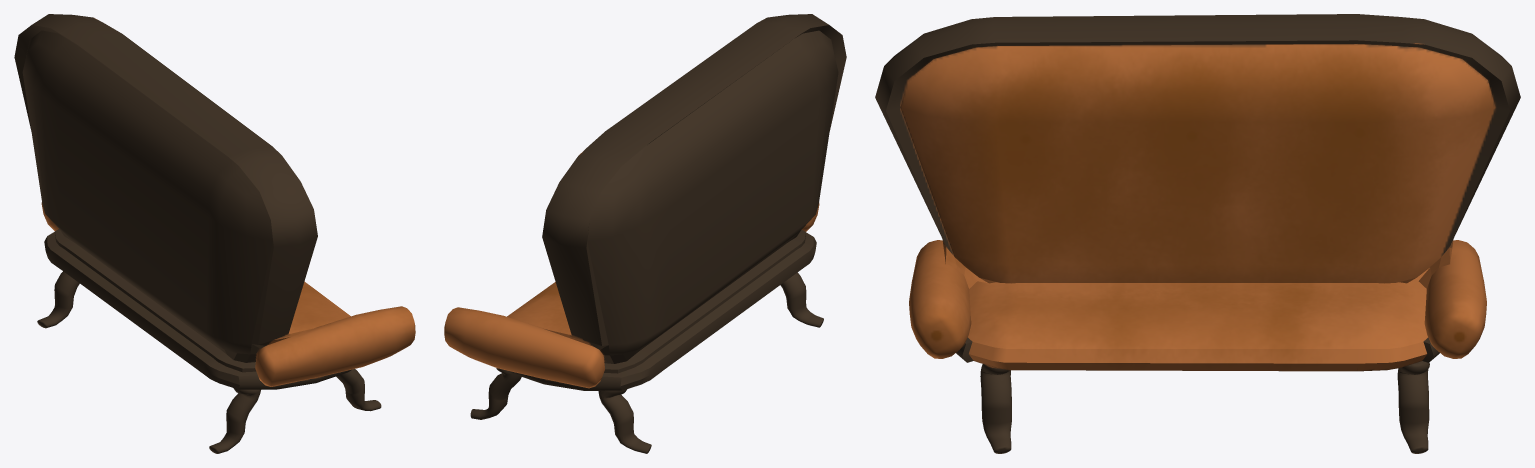
Rendered from sofa.fbx.
3 renders of one model, left to right at view 1: azimuth 30°, elevation 25°; view 2: azimuth 150°, elevation 25°; view 3: azimuth 270°, elevation 25°, orthographic. The views are drawn at different scales.
Visible parts, largest first — view 1: polySurface413; view 2: polySurface413; view 3: polySurface413.
Part boxes in pixels (x1,y1,x2,y2): polySurface413: (14,14,415,453); polySurface413: (444,14,846,453); polySurface413: (875,14,1520,453).
Size of the model in its own units: 1.04 by 1.65 by 2.7.
Materials: 1 (1 with a texture image).
